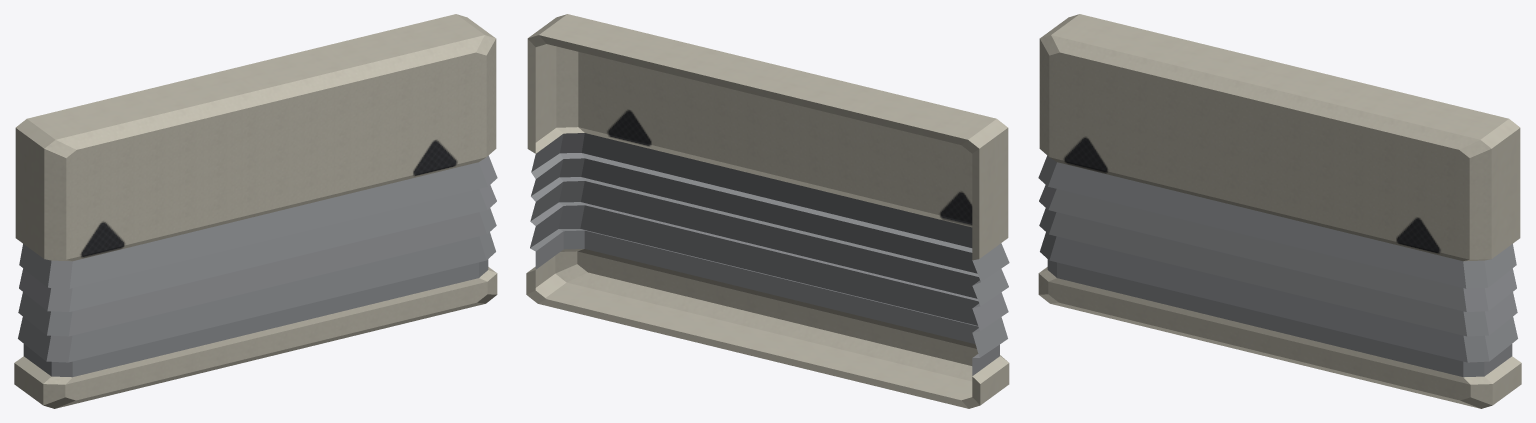
The model's file is Wallrollluikblock2.fbx.
3 views of the same model, side by side, from view 1: azimuth 30°, elevation 25°; view 2: azimuth 150°, elevation 25°; view 3: azimuth 330°, elevation 25° (orthographic).
Parts seen in each view (by area): view 1: rollluikblock2; view 2: rollluikblock2; view 3: rollluikblock2.
Boxes of the visible parts, left/top/right/bottom form: rollluikblock2: left=14, top=14, right=497, bottom=408; rollluikblock2: left=526, top=14, right=1009, bottom=408; rollluikblock2: left=1038, top=14, right=1521, bottom=408.
Bounding box in the file's own units: 81.15 × 45.92 × 11.61.
